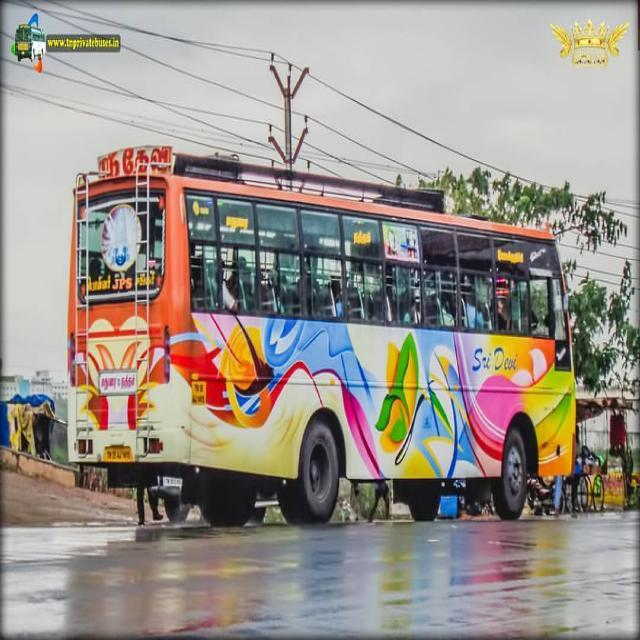Bus: (63, 141, 580, 530)
